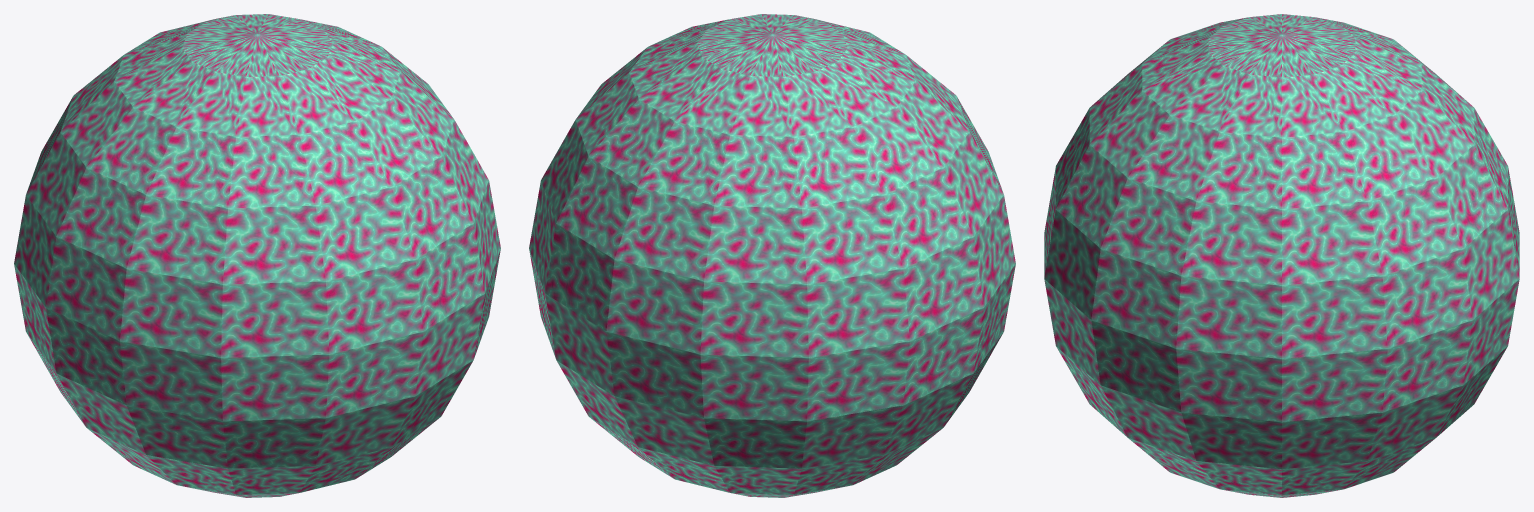
File: shield.obj
3 renders of one model, left to right at view 1: azimuth 30°, elevation 25°; view 2: azimuth 150°, elevation 25°; view 3: azimuth 270°, elevation 25°, orthographic.
Visible parts, largest first — view 1: Shield; view 2: Shield; view 3: Shield.
Boxes of the visible parts, x1=… form: Shield: x1=14, y1=14, x2=500, y2=497; Shield: x1=529, y1=14, x2=1015, y2=497; Shield: x1=1044, y1=14, x2=1519, y2=497.
Size of the model in its own units: 2 by 2 by 1.95.
